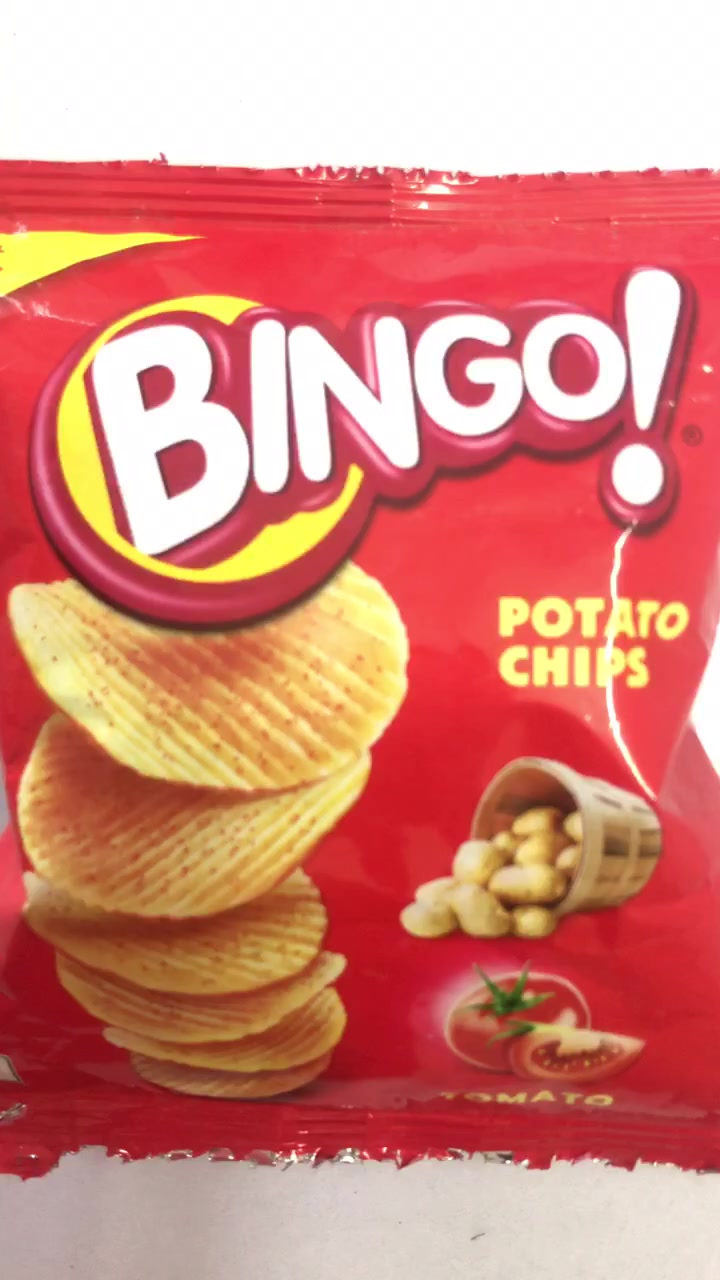Bingo: (10, 252, 702, 1014)
